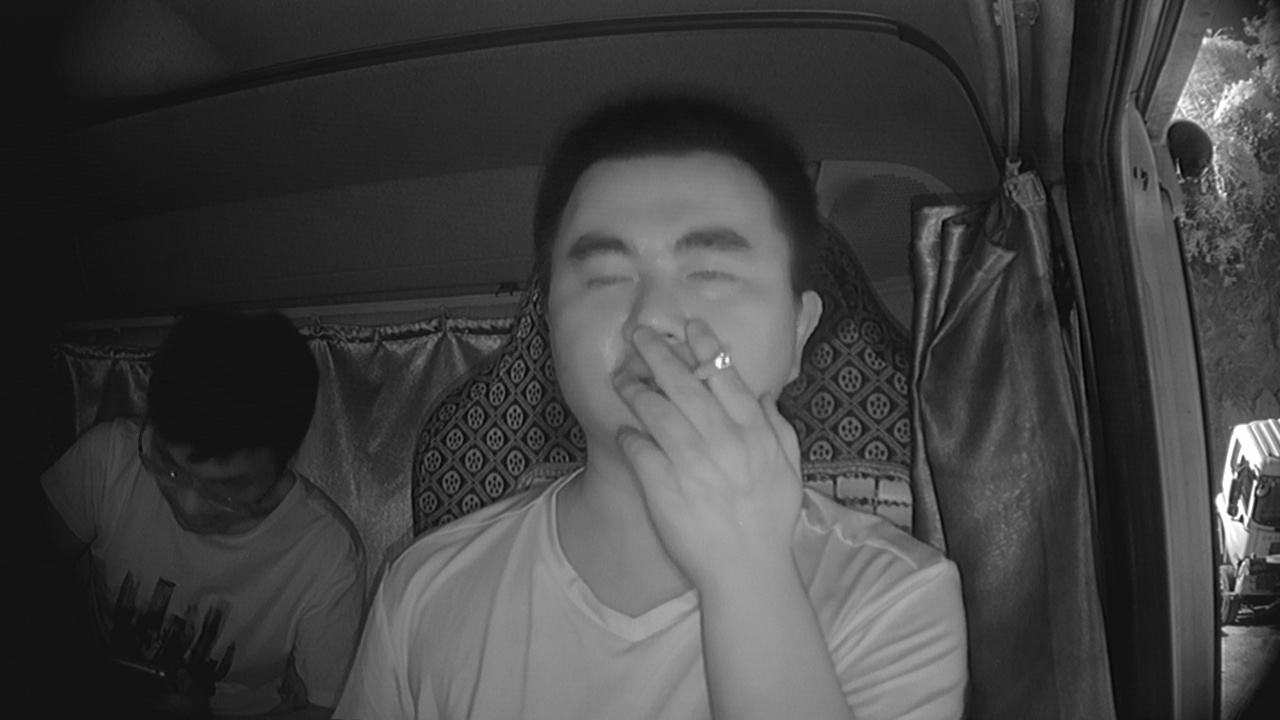hand: (623, 335, 815, 573)
